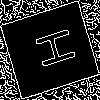H: (25, 25, 77, 74)
